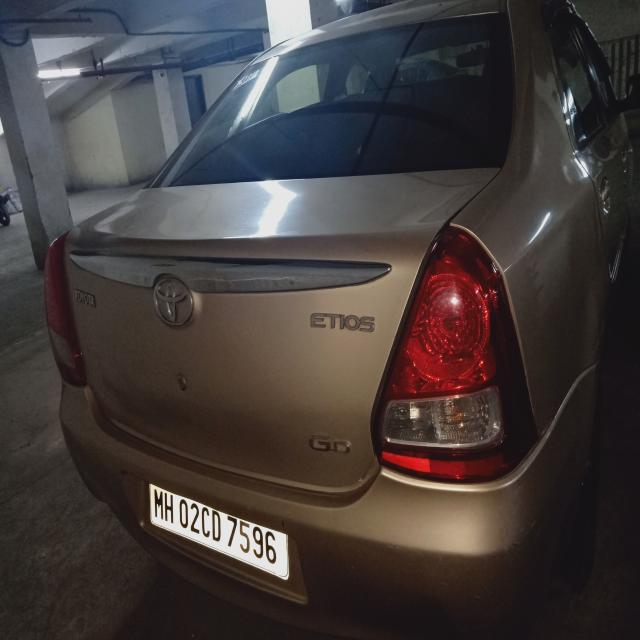Number-Plate: (149, 486, 288, 569)
